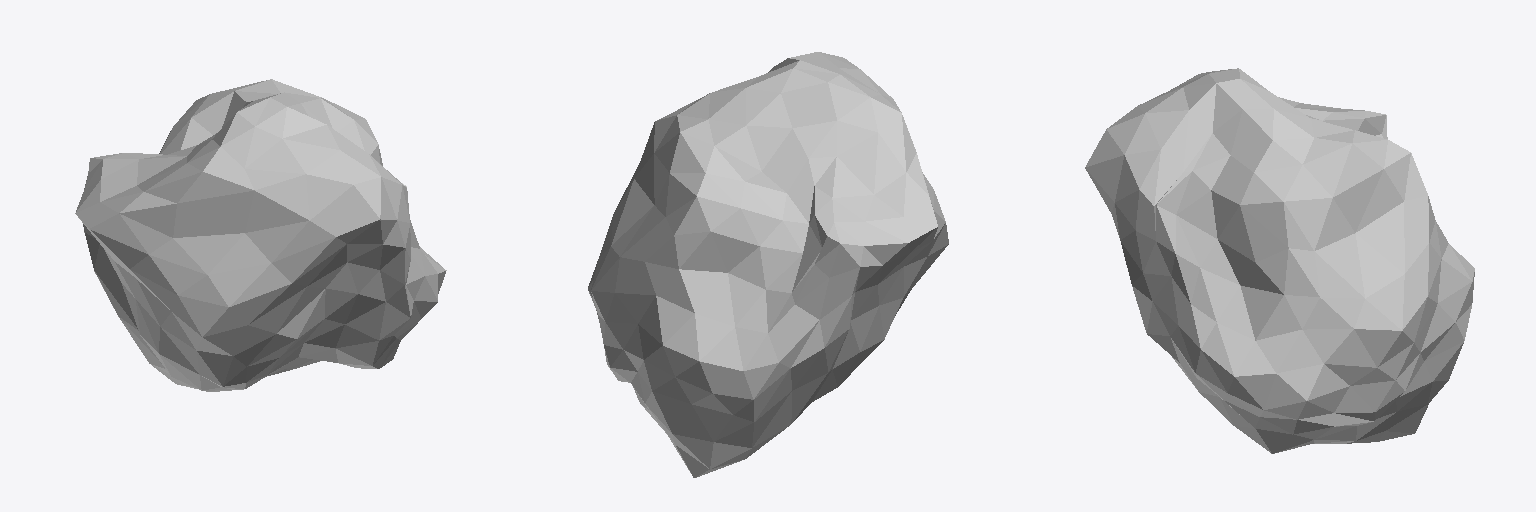
Rendered from asteroid19.obj.
3 renders of one model, left to right at view 1: azimuth 30°, elevation 25°; view 2: azimuth 150°, elevation 25°; view 3: azimuth 270°, elevation 25°, orthographic.
Visible parts, largest first — view 1: asteroid; view 2: asteroid; view 3: asteroid.
Part boxes in pixels (bbox=[...]): asteroid: bbox=[75, 79, 446, 391]; asteroid: bbox=[588, 52, 948, 477]; asteroid: bbox=[1085, 68, 1474, 453].
Size of the model in its own units: 51.12 by 50.58 by 51.23.